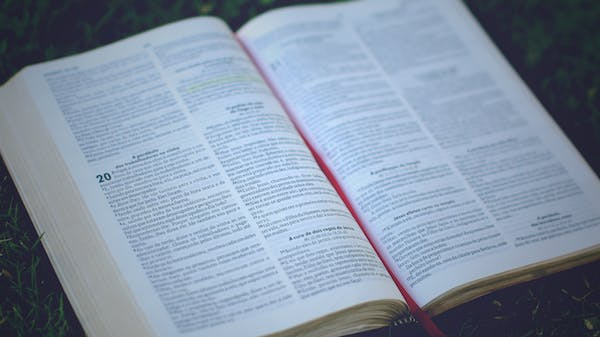book: (6, 6, 600, 337)
